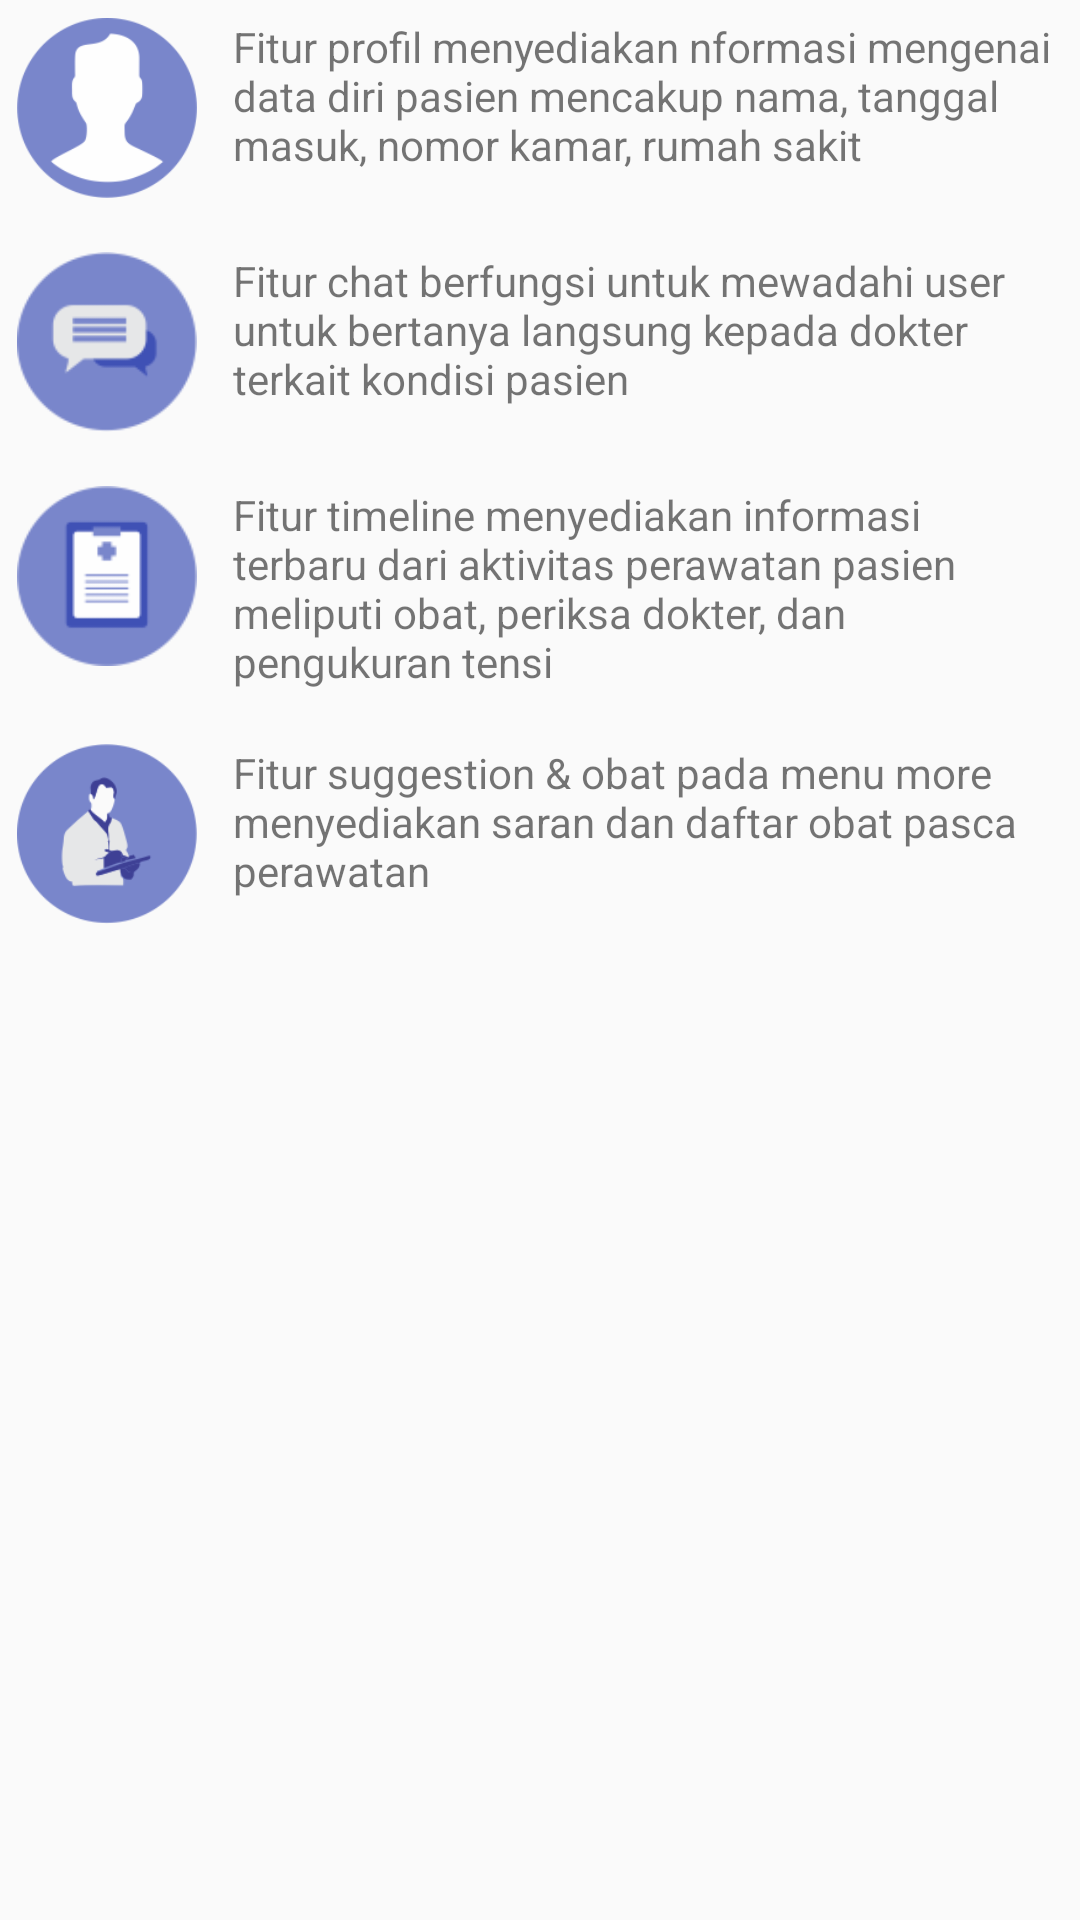

Named icons in this screenshot (1080x1920) and their centers, [x,y]:
chating: [107,341]
profileview: [107,108]
